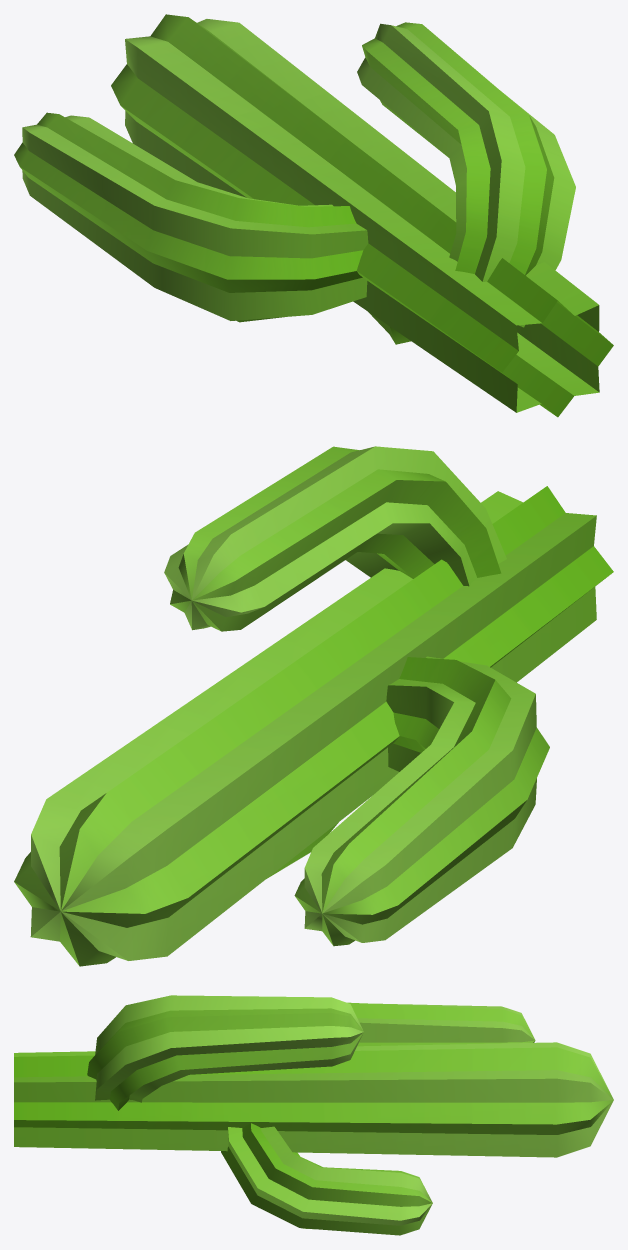
Rendered from Cactus 05.FBX.
3 views of the same model, one above another, from view 1: azimuth 30°, elevation 25°; view 2: azimuth 150°, elevation 25°; view 3: azimuth 270°, elevation 25° (orthographic). The views are drawn at different scales.
Visible parts, largest first — view 1: Cactus 05; view 2: Cactus 05; view 3: Cactus 05.
Boxes of the visible parts, x1=… form: Cactus 05: x1=14, y1=14, x2=613, y2=417; Cactus 05: x1=14, y1=446, x2=613, y2=966; Cactus 05: x1=14, y1=995, x2=613, y2=1235.
Bounding box in the file's own units: 137 × 125 × 298.
1 material, 1 textured.
